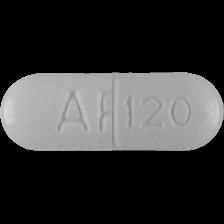60505-0223: (0, 0, 224, 224)
